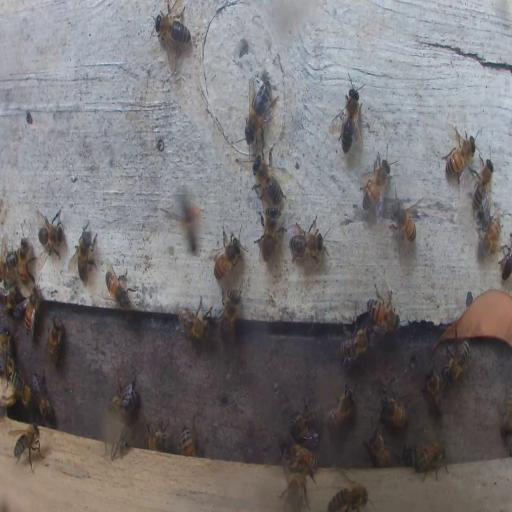bee: (334, 76, 364, 152), (360, 149, 393, 216), (244, 78, 276, 140), (154, 4, 190, 59), (444, 126, 477, 182), (254, 204, 283, 267), (252, 153, 286, 206), (288, 217, 326, 262), (176, 196, 204, 254), (176, 298, 212, 342), (35, 208, 65, 260), (13, 422, 44, 472), (213, 228, 244, 278), (72, 220, 97, 281), (390, 196, 420, 246), (471, 156, 493, 219), (326, 385, 356, 429), (17, 284, 42, 334), (327, 483, 370, 511), (104, 266, 132, 308), (219, 288, 241, 341), (109, 376, 138, 416), (412, 442, 446, 476), (281, 444, 318, 475), (340, 325, 370, 363), (290, 406, 320, 443), (366, 426, 392, 468), (444, 341, 470, 383), (367, 297, 397, 333), (424, 366, 446, 414), (6, 366, 31, 408), (479, 214, 502, 258), (281, 476, 307, 512), (45, 317, 64, 366), (498, 380, 512, 440), (381, 395, 406, 427), (144, 422, 170, 451), (18, 238, 34, 284), (35, 383, 53, 422), (33, 371, 49, 413), (1, 285, 24, 312), (1, 246, 17, 284), (1, 330, 12, 372), (180, 426, 194, 456), (500, 248, 512, 278), (402, 446, 418, 464)
